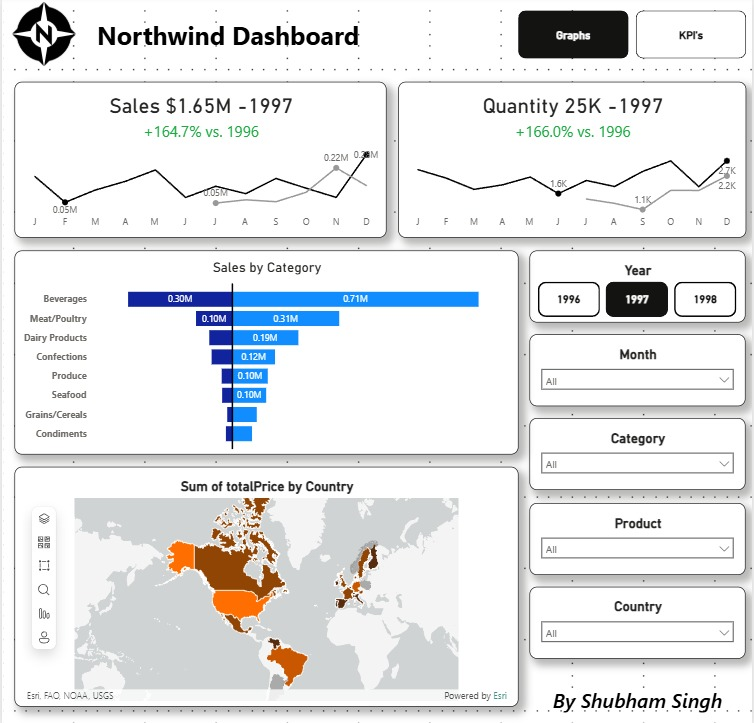

This screenshot's page, from the dashboard's own definition file:
{"tool":"powerbi","page":{"name":"products","canvas":[1000,975],"ordinal":0},"visuals":[{"type":"shape","box":[112,0,416,96],"z":0},{"type":"barChart","title":"Sales by Category","fields":{"Y":["MeasureTable._Current Year Sales","MeasureTable._Past Year Sales."],"Category":["Categories.CategoryName"]},"box":[16,336,672,272],"z":0,"group":"g2"},{"type":"advancedSlicerVisual","fields":{"Values":["CALENDAR.Date.Variation.Date Hierarchy.Year"]},"box":[704,336,288,96],"z":0,"group":"g1"},{"type":"lineChart","fields":{"Y":["Sum(Order Details.totalPrice)","MeasureTable.Max Current Value","MeasureTable.Min Current Value","MeasureTable.Max Past Year Value","MeasureTable.Min Past Year Value","MeasureTable._Past Year Sales"],"Category":["CALENDAR.Month Letter"]},"box":[16,112,496,208],"z":1000},{"type":"slicer","title":"Month","fields":{"Values":["CALENDAR.Date.Variation.Date Hierarchy.Month"]},"box":[704,448,288,96],"z":1000,"group":"g1"},{"type":"esriVisual","fields":{"Location":["Customers.Country"],"Size":["Sum(Order Details.totalPrice)"]},"box":[16,624,672,320],"z":1000,"group":"g2"},{"type":"lineChart","fields":{"Y":["Sum(Order Details.Quantity)","MeasureTable.__Max Current Value","MeasureTable.__Min Current Value","MeasureTable.__Max Past Year Value","MeasureTable.__Min Past Year Value","MeasureTable.__Past Year Quantity"],"Category":["CALENDAR.Month Letter"]},"box":[528,112,464,208],"z":2000},{"type":"slicer","title":"Category","fields":{"Values":["Categories.CategoryName"]},"box":[704,560,288,96],"z":2000,"group":"g1"},{"type":"image","box":[0,0,112,96],"z":3000},{"type":"slicer","title":"Product","fields":{"Values":["Products.ProductName"]},"box":[704,672,288,96],"z":3000,"group":"g1"},{"type":"group","id":"g1","title":"Filters","box":[704,336,288,544],"z":4000},{"type":"slicer","title":"Country","fields":{"Values":["Customers.Country"]},"box":[704,784,288,96],"z":4000,"group":"g1"},{"type":"shape","box":[704,895,288,80],"z":5000},{"type":"bookmarkNavigator","box":[688,16,304,64],"z":6000},{"type":"group","id":"g2","title":"graphs","box":[16,336,672,608],"z":7000}]}

Visuals, with their boxes in screenshot pixels (x1, y1, x2, y2), scaled from the page's 1000x975 canvas onto the 754x723 screenshot:
shape: {"x1": 84, "y1": 0, "x2": 398, "y2": 71}
"Sales by Category" barChart: {"x1": 12, "y1": 249, "x2": 519, "y2": 451}
advancedSlicerVisual - CALENDAR.Date.Variation.Date Hierarchy.Year: {"x1": 531, "y1": 249, "x2": 748, "y2": 320}
lineChart - Sum(Order Details.totalPrice) x MeasureTable.Max Current Value: {"x1": 12, "y1": 83, "x2": 386, "y2": 237}
"Month" slicer: {"x1": 531, "y1": 332, "x2": 748, "y2": 403}
esriVisual - Customers.Country x Sum(Order Details.totalPrice): {"x1": 12, "y1": 463, "x2": 519, "y2": 700}
lineChart - Sum(Order Details.Quantity) x MeasureTable.__Max Current Value: {"x1": 398, "y1": 83, "x2": 748, "y2": 237}
"Category" slicer: {"x1": 531, "y1": 415, "x2": 748, "y2": 486}
image: {"x1": 0, "y1": 0, "x2": 84, "y2": 71}
"Product" slicer: {"x1": 531, "y1": 498, "x2": 748, "y2": 570}
"Filters" group: {"x1": 531, "y1": 249, "x2": 748, "y2": 653}
"Country" slicer: {"x1": 531, "y1": 581, "x2": 748, "y2": 653}
shape: {"x1": 531, "y1": 664, "x2": 748, "y2": 722}
bookmarkNavigator: {"x1": 519, "y1": 12, "x2": 748, "y2": 59}
"graphs" group: {"x1": 12, "y1": 249, "x2": 519, "y2": 700}
